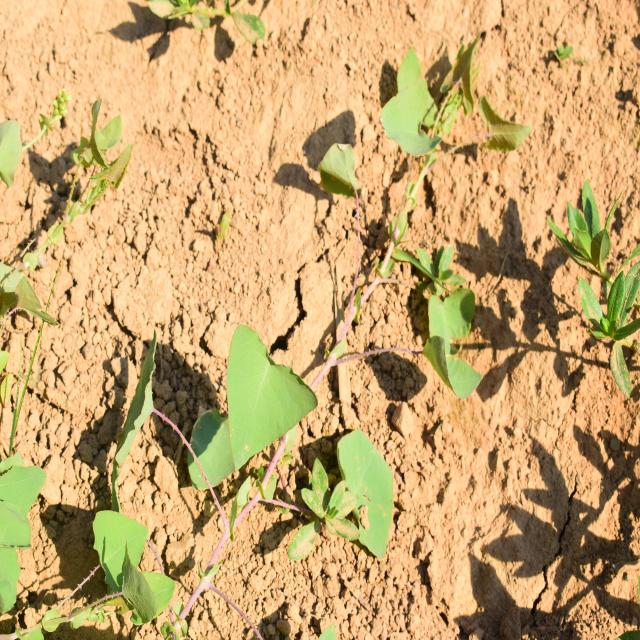Asiatic_Smartweed: (310, 41, 510, 323), (209, 307, 324, 508), (103, 329, 196, 464)
